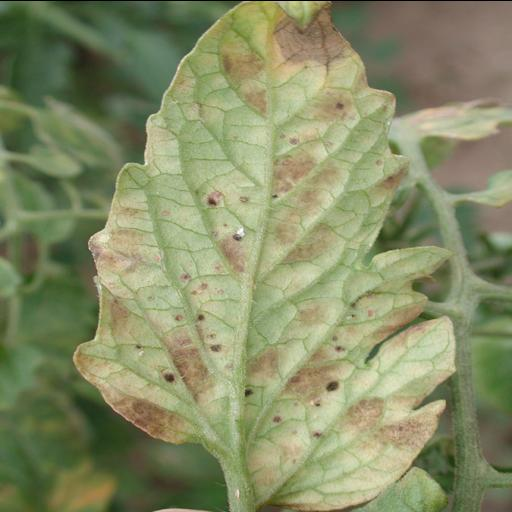Leaf Mold: (72, 0, 456, 508)
